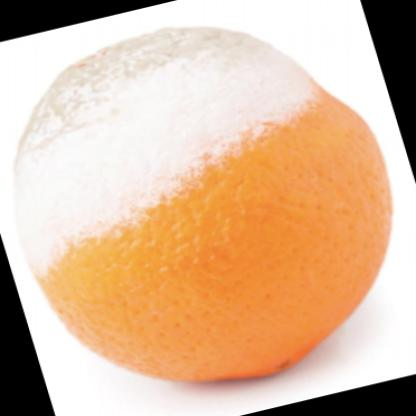rotten_orange: (1, 28, 403, 389)
